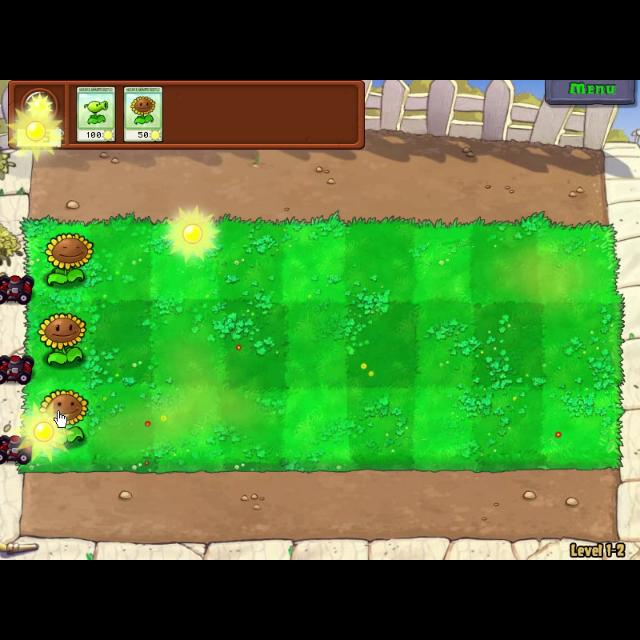Garden: (17, 210, 620, 472)
Menu Button: (542, 80, 636, 104)
Mower: (0, 266, 36, 308), (0, 351, 38, 387), (1, 431, 36, 469)
Peashooter: (76, 84, 116, 144)
Seed Panel: (5, 80, 365, 152)
Sun: (158, 208, 226, 262), (16, 408, 74, 462), (9, 106, 63, 162)
Sunflower: (120, 83, 166, 145)
Sunflower Seed: (40, 228, 100, 290), (38, 391, 96, 449), (32, 306, 88, 362)
